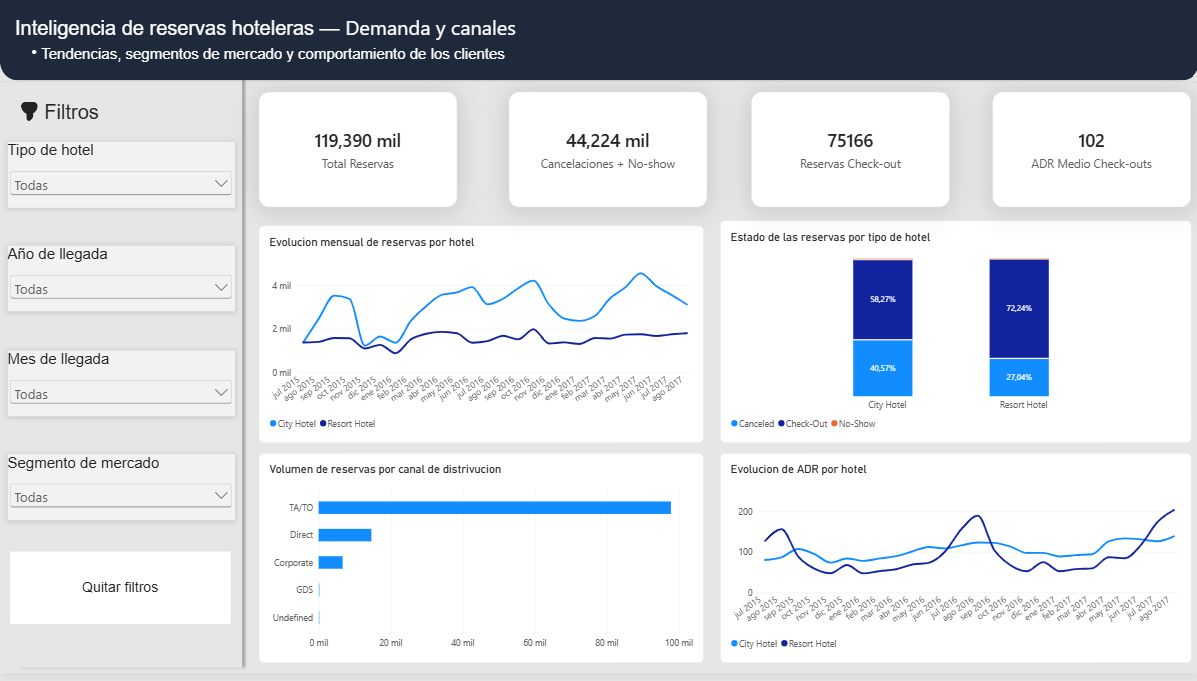

Layout of this report page (visuals, bound fields, positions):
{"tool":"powerbi","page":{"name":"Demanda y canales","canvas":[1920,1080],"ordinal":1},"visuals":[{"type":"shape","box":[18.1,0,378.2,1080.4],"z":0},{"type":"shape","box":[29.9,166.4,34.1,20.5],"z":0,"group":"g2"},{"type":"slicer","title":"Tipo de hotel","fields":{"Values":["Reservas.hotel"]},"box":[11.1,229.3,363.7,105.4],"z":0,"group":"g1"},{"type":"lineChart","title":"Evolucion mensual de reservas por hotel","fields":{"Category":["Reservas.MesAño"],"Series":["Reservas.hotel"],"Y":["Reservas.Total Reservas"]},"box":[414,364,712,348],"z":0},{"type":"shape","box":[0,0,1920.1,132.1],"z":1000},{"type":"shape","box":[41.1,175.4,11.7,23],"z":1000,"group":"g2"},{"type":"slicer","title":"Año de llegada","fields":{"Values":["Reservas.arrival_date_year"]},"box":[11.1,394.3,363.7,105.4],"z":1000,"group":"g1"},{"type":"clusteredBarChart","title":"Volumen de reservas por canal de distrivucion","fields":{"Category":["Reservas.distribution_channel"],"Y":["Reservas.Total Reservas"]},"box":[414,728,712,336],"z":1000},{"type":"textbox","box":[30.8,72.4,825.2,38],"z":2000},{"type":"slicer","title":"Mes de llegada","fields":{"Values":["Reservas.MesAño"]},"box":[11.1,563.3,363.7,105.4],"z":2000,"group":"g1"},{"type":"lineChart","title":"Evolucion de ADR por hotel","fields":{"Category":["Reservas.MesAño"],"Series":["Reservas.hotel"],"Y":["Reservas.ADR Medio Check-outs"]},"box":[1152,728,754,336],"z":2000},{"type":"textbox","box":[23.5,23.5,832.4,45.2],"z":3000},{"type":"hundredPercentStackedColumnChart","title":"Estado de las reservas por tipo de hotel","fields":{"Category":["Reservas.hotel"],"Series":["Reservas.reservation_status"],"Y":["Reservas.Total Reservas"]},"box":[1152,356,754,356],"z":3000},{"type":"slicer","title":"Segmento de mercado","fields":{"Values":["Reservas.market_segment"]},"box":[11.1,728.3,363.7,105.4],"z":3000,"group":"g1"},{"type":"card","fields":{"Values":["Reservas.Total Reservas"]},"box":[414.4,150.2,317.3,184.6],"z":4000},{"type":"card","fields":{"Values":["Reservas.Cancelaciones + No-show"]},"box":[813.3,150.2,317.3,184.6],"z":5000},{"type":"card","fields":{"Values":["Reservas.Reservas Check-out"]},"box":[1201.1,150.2,317.3,184.6],"z":6000},{"type":"card","fields":{"Values":["Reservas.ADR Medio Check-outs"]},"box":[1588.3,150.2,317.3,184.6],"z":7000},{"type":"group","id":"g1","title":"Grupo 1","box":[11.1,229.3,363.7,604.4],"z":8000},{"type":"textbox","box":[61.9,164.3,170.7,51.2],"z":9000},{"type":"group","id":"g2","title":"Grupo 2","box":[29.9,166.4,34.1,32],"z":10000},{"type":"actionButton","title":"Quitar filtros","box":[14.5,883.1,356.5,119.4],"z":11000}]}

Visuals, with their boxes in screenshot pixels (x1, y1, x2, y2), scaled from the page's 1920x1080 canvas onto the 1197x681 screenshot:
shape: select_region(11, 0, 247, 680)
shape: select_region(19, 105, 40, 118)
"Tipo de hotel" slicer: select_region(7, 145, 234, 211)
"Evolucion mensual de reservas por hotel" lineChart: select_region(258, 230, 702, 449)
shape: select_region(0, 0, 1196, 83)
shape: select_region(26, 111, 33, 125)
"Año de llegada" slicer: select_region(7, 249, 234, 315)
"Volumen de reservas por canal de distrivucion" clusteredBarChart: select_region(258, 459, 702, 671)
textbox: select_region(19, 46, 534, 70)
"Mes de llegada" slicer: select_region(7, 355, 234, 422)
"Evolucion de ADR por hotel" lineChart: select_region(718, 459, 1188, 671)
textbox: select_region(15, 15, 534, 43)
"Estado de las reservas por tipo de hotel" hundredPercentStackedColumnChart: select_region(718, 224, 1188, 449)
"Segmento de mercado" slicer: select_region(7, 459, 234, 526)
card - Reservas.Total Reservas: select_region(258, 95, 456, 211)
card - Reservas.Cancelaciones + No-show: select_region(507, 95, 705, 211)
card - Reservas.Reservas Check-out: select_region(749, 95, 947, 211)
card - Reservas.ADR Medio Check-outs: select_region(990, 95, 1188, 211)
"Grupo 1" group: select_region(7, 145, 234, 526)
textbox: select_region(39, 104, 145, 136)
"Grupo 2" group: select_region(19, 105, 40, 125)
"Quitar filtros" actionButton: select_region(9, 557, 231, 632)
